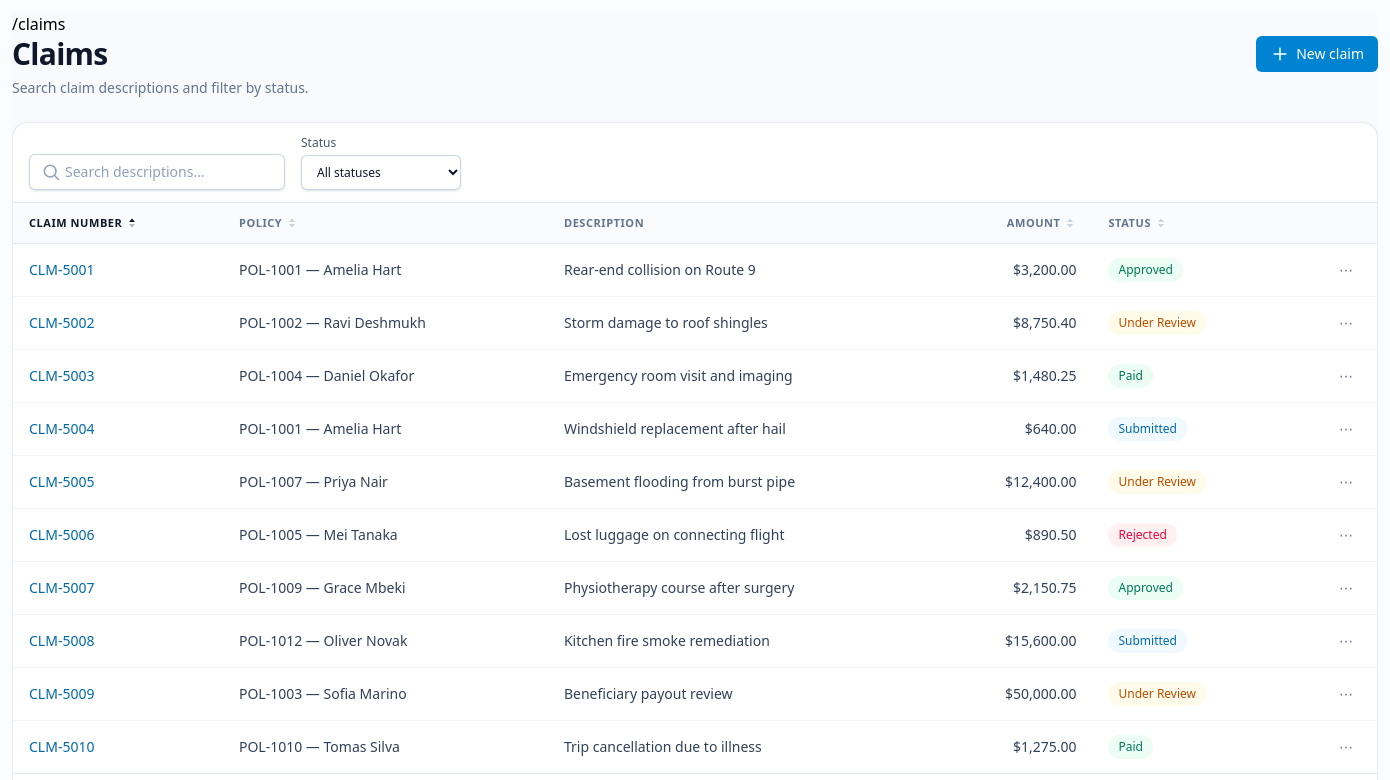
Test: ClaimListPage › searches claim descriptions
Expected: the link "CLM-5001" is shown, left=29, top=260, right=94, bottom=279
Step 1. Type "luggage" into the search field with placeholder "Search descriptions…" → coordinates (157, 172), box left=29, top=154, right=285, bottom=190
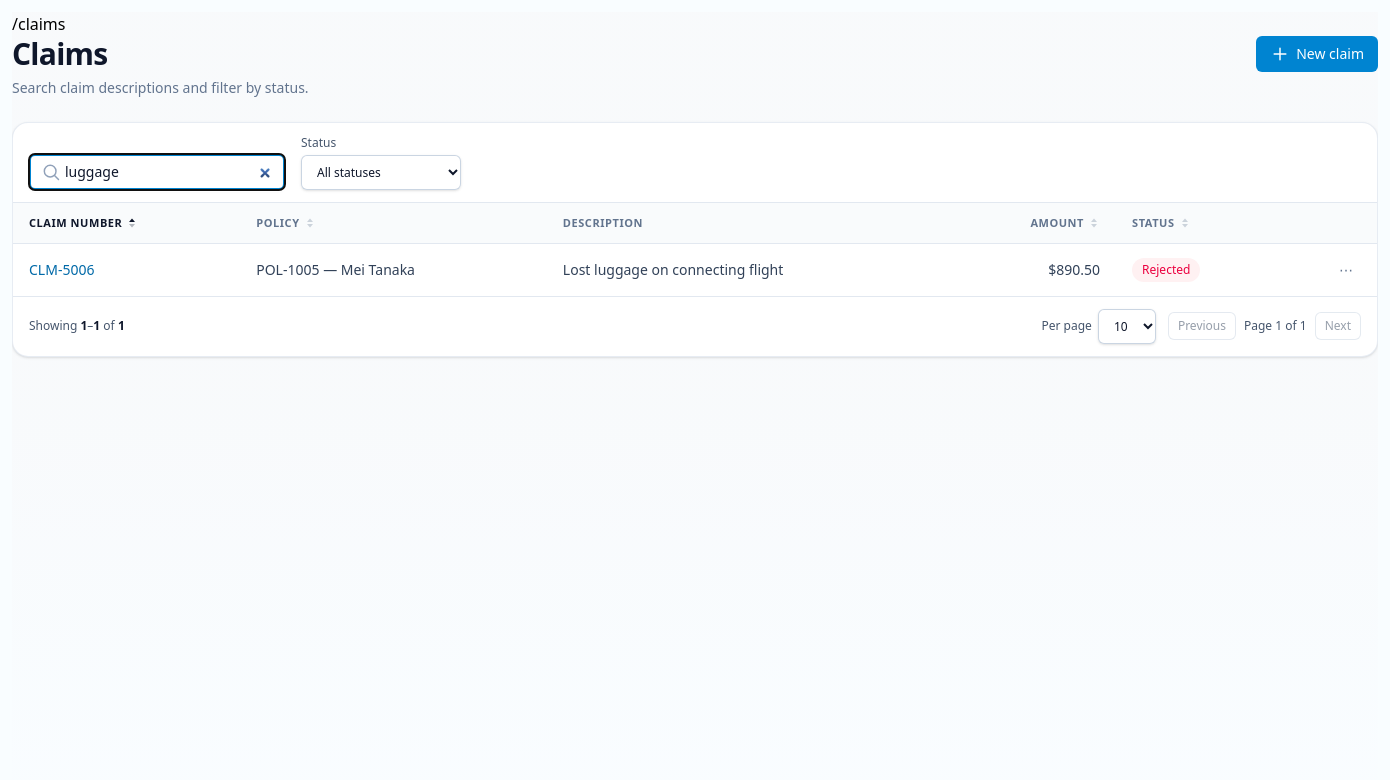
Expected: the link "CLM-5006" is shown, left=29, top=260, right=94, bottom=279
Expected: the link "CLM-5001" is gone
